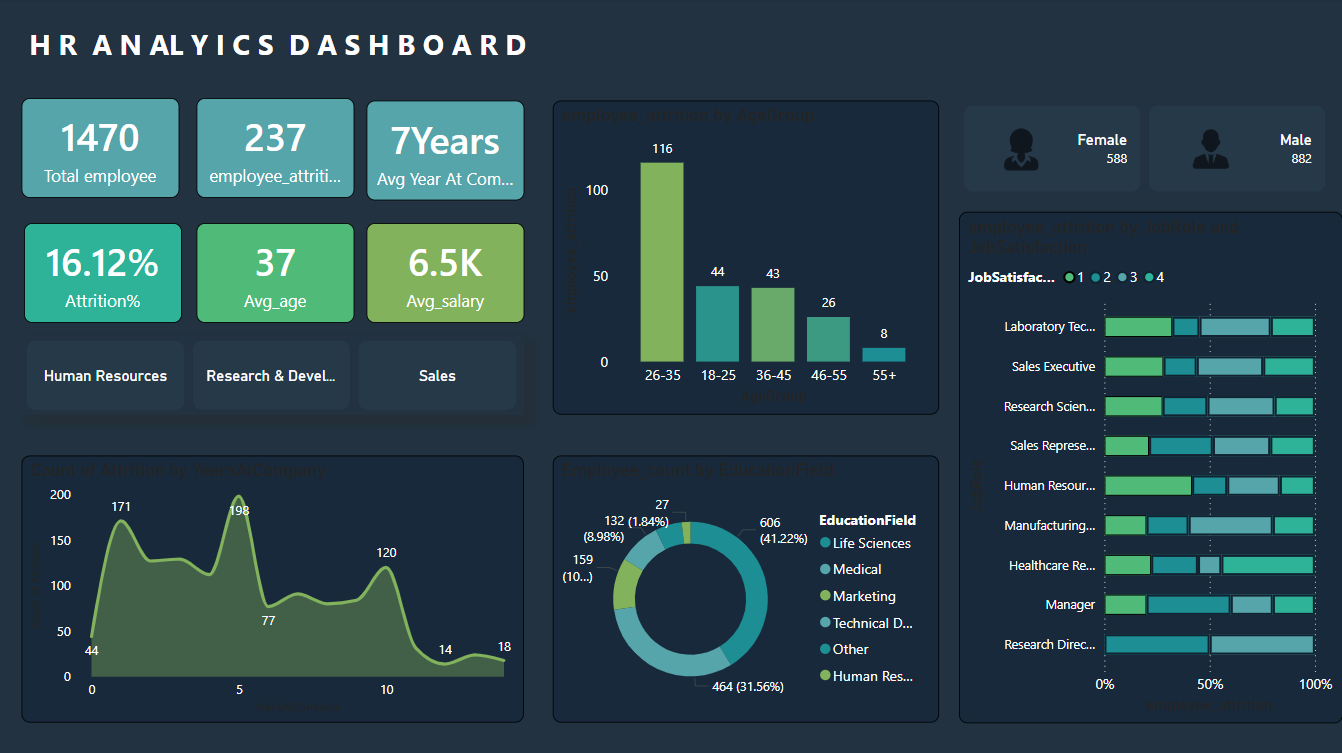

The page's visual inventory and layout, read from the dashboard file:
{"tool":"powerbi","page":{"name":"HR_dashborad","canvas":[1280,720],"ordinal":0},"visuals":[{"type":"image","box":[1129.8,120.2,48.8,47.6],"z":0},{"type":"image","box":[948.8,115.5,50,57.1],"z":1000},{"type":"card","fields":{"Values":["HR_Analytics.Employee_count"]},"box":[21.4,95.2,150,95.2],"z":2000},{"type":"areaChart","fields":{"Y":["CountNonNull(HR_Analytics.Attrition)"],"Category":["HR_Analytics.YearsAtCompany"]},"box":[21.4,435.7,478.6,254.8],"z":3000},{"type":"card","fields":{"Values":["HR_Analytics.Year_with_Text"]},"box":[350,97.6,150,95.2],"z":4000},{"type":"card","fields":{"Values":["HR_Analytics.Attrition%"]},"box":[23.8,214.3,150,95.2],"z":5000},{"type":"card","fields":{"Values":["HR_Analytics.Avg_salary"]},"box":[350,214.3,150,95.2],"z":6000},{"type":"card","fields":{"Values":["HR_Analytics.Avg_age"]},"box":[188.1,214.3,150,95.2],"z":7000},{"type":"card","fields":{"Values":["HR_Analytics.employee_attrition"]},"box":[188.1,95.2,150,95.2],"z":8000},{"type":"donutChart","fields":{"Y":["HR_Analytics.Employee_count"],"Category":["HR_Analytics.EducationField"]},"box":[527.4,435.7,367.9,254.8],"z":9000},{"type":"clusteredColumnChart","fields":{"Category":["HR_Analytics.AgeGroup"],"Y":["HR_Analytics.employee_attrition"]},"box":[527.4,97.6,367.9,298.8],"z":10000},{"type":"hundredPercentStackedBarChart","fields":{"Y":["HR_Analytics.employee_attrition"],"Series":["HR_Analytics.JobSatisfaction"],"Category":["HR_Analytics.JobRole"]},"box":[914.3,203.6,365.5,486.9],"z":11000},{"type":"advancedSlicerVisual","fields":{"Values":["HR_Analytics.Gender"]},"box":[914.3,97.6,354.8,92.9],"z":12000},{"type":"advancedSlicerVisual","fields":{"Values":["HR_Analytics.Department"]},"box":[21.4,321.4,478.6,76.2],"z":13000},{"type":"textbox","box":[23.8,20.2,492.9,50],"z":13001}]}

Visuals, with their boxes in screenshot pixels (x1, y1, x2, y2), scaled from the page's 1280x720 canvas onto the 1342x753 screenshot:
image: bbox=(1185, 126, 1236, 175)
image: bbox=(995, 121, 1047, 181)
card - HR_Analytics.Employee_count: bbox=(22, 100, 180, 199)
areaChart - CountNonNull(HR_Analytics.Attrition) x HR_Analytics.YearsAtCompany: bbox=(22, 456, 524, 722)
card - HR_Analytics.Year_with_Text: bbox=(367, 102, 524, 202)
card - HR_Analytics.Attrition%: bbox=(25, 224, 182, 324)
card - HR_Analytics.Avg_salary: bbox=(367, 224, 524, 324)
card - HR_Analytics.Avg_age: bbox=(197, 224, 354, 324)
card - HR_Analytics.employee_attrition: bbox=(197, 100, 354, 199)
donutChart - HR_Analytics.Employee_count x HR_Analytics.EducationField: bbox=(553, 456, 939, 722)
clusteredColumnChart - HR_Analytics.AgeGroup x HR_Analytics.employee_attrition: bbox=(553, 102, 939, 415)
hundredPercentStackedBarChart - HR_Analytics.employee_attrition x HR_Analytics.JobSatisfaction: bbox=(959, 213, 1341, 722)
advancedSlicerVisual - HR_Analytics.Gender: bbox=(959, 102, 1331, 199)
advancedSlicerVisual - HR_Analytics.Department: bbox=(22, 336, 524, 416)
textbox: bbox=(25, 21, 542, 73)
